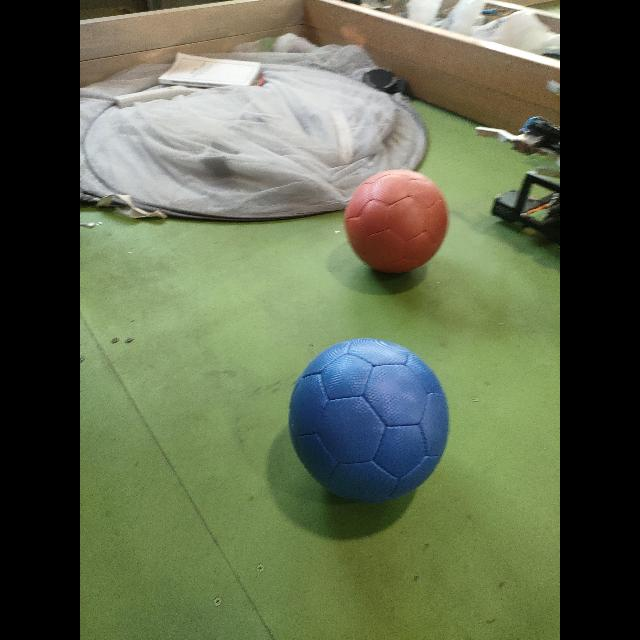B: (288, 338, 450, 507)
R: (343, 169, 450, 278)
